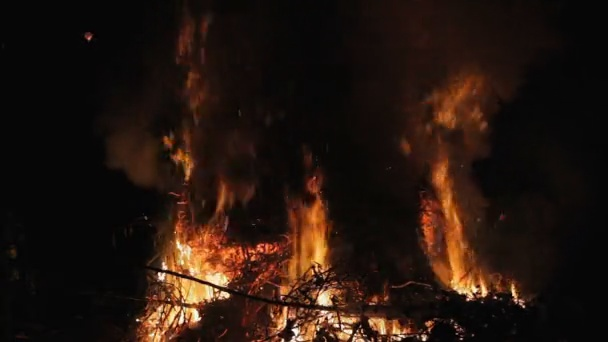fire: (270, 202, 402, 341), (136, 239, 228, 342), (447, 246, 488, 300), (510, 283, 522, 304)
